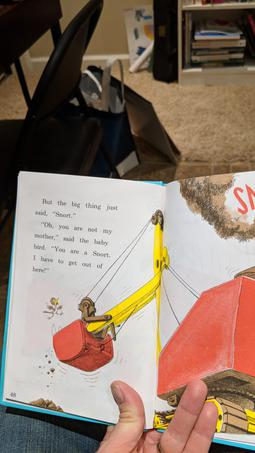text block: (27, 189, 121, 289)
